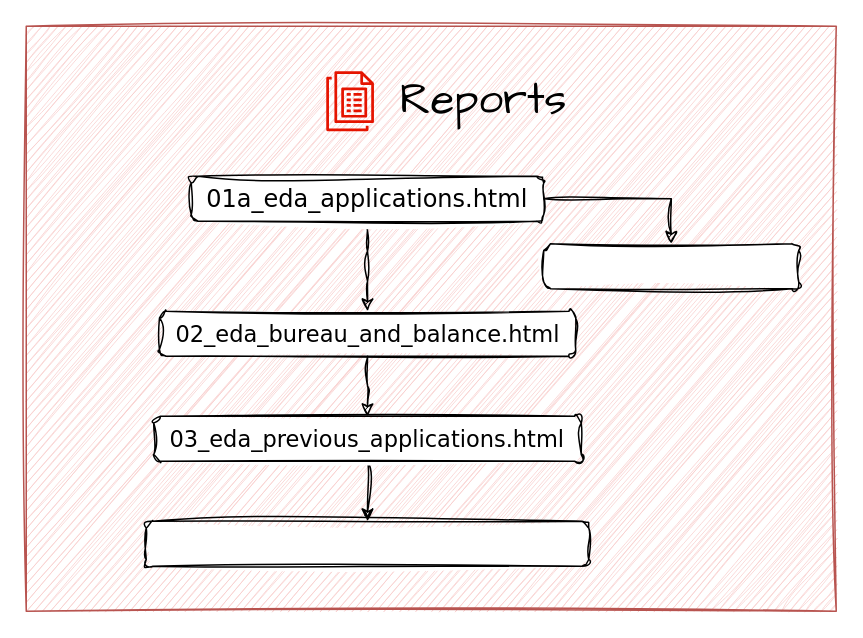
The diagram is 863 pixels wide and 638 high, and some of its shapes have lost their labels. Each missing label, with the centre of its shape:
01b_data_drift.ipynb: (670,265)
04_eda_pos_credit_installments.html: (367,543)
